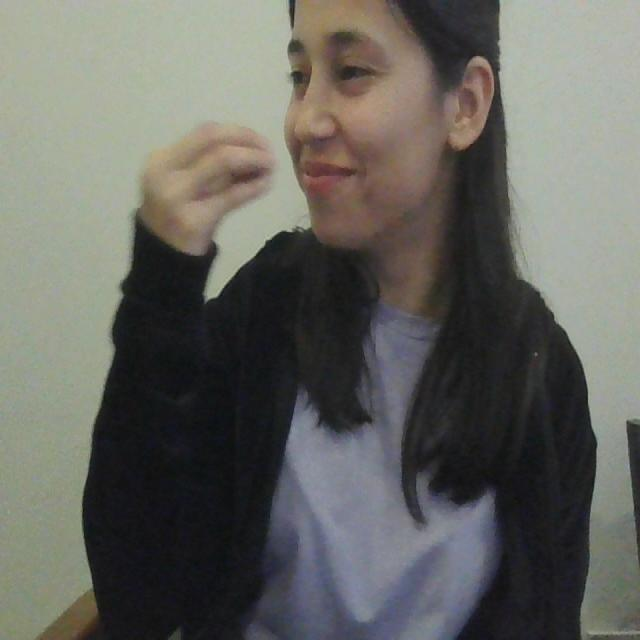Yemek: (140, 120, 335, 228)
